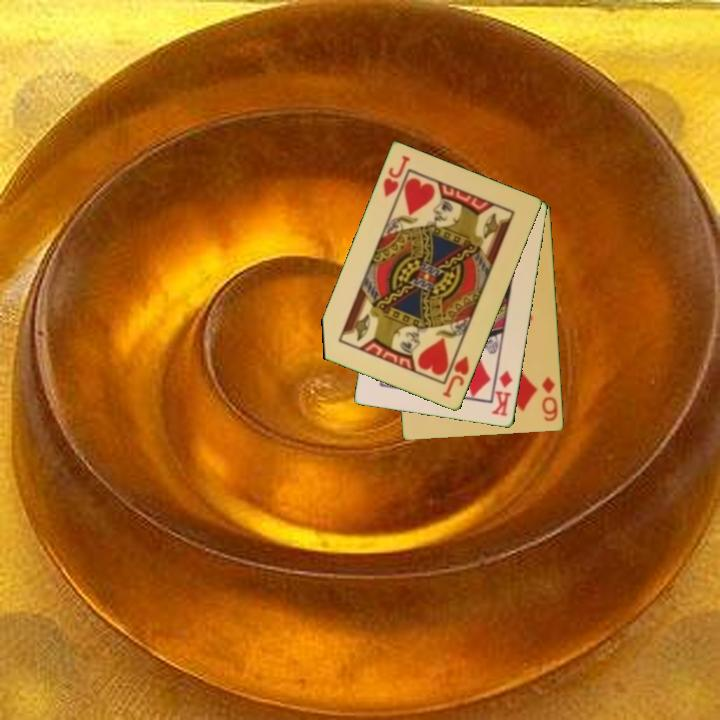6d: (539, 373, 561, 425)
Jh: (439, 352, 472, 401), (380, 152, 413, 200)
Kd: (489, 367, 516, 419)
